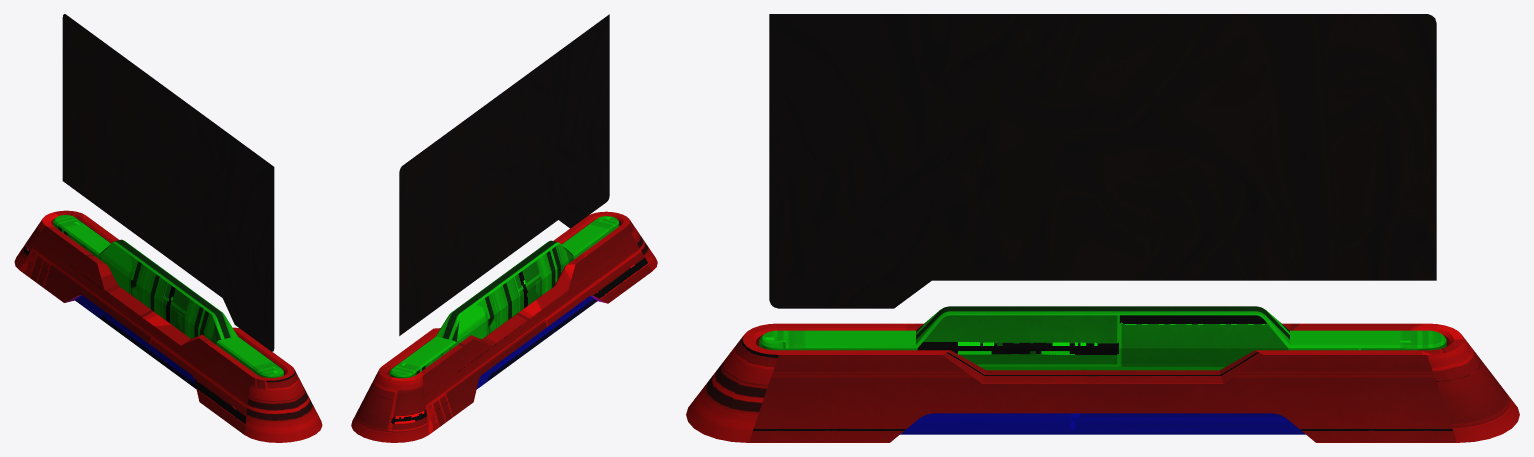
Rendered from propRoadsidePosterLarge.glb.
The picture shows the model from 3 angles, left to right: view 1: azimuth 30°, elevation 25°; view 2: azimuth 150°, elevation 25°; view 3: azimuth 270°, elevation 25°; orthographic projection. The views are drawn at different scales.
Visible parts, largest first — view 1: propRoadsidePosterLarge, SM_Jumbotron_M_Jumbotron_0; view 2: propRoadsidePosterLarge, SM_Jumbotron_M_Jumbotron_0; view 3: propRoadsidePosterLarge, SM_Jumbotron_M_Jumbotron_0.
Part boxes in pixels (x1,y1,x2,y2): propRoadsidePosterLarge: [62, 14, 274, 351]; SM_Jumbotron_M_Jumbotron_0: [14, 210, 322, 442]; propRoadsidePosterLarge: [399, 14, 609, 335]; SM_Jumbotron_M_Jumbotron_0: [351, 211, 657, 442]; propRoadsidePosterLarge: [769, 14, 1436, 308]; SM_Jumbotron_M_Jumbotron_0: [686, 306, 1519, 442].
Size of the model in its own units: 1.6 by 5.3 by 10.
Materials: 3 (2 with a texture image).
